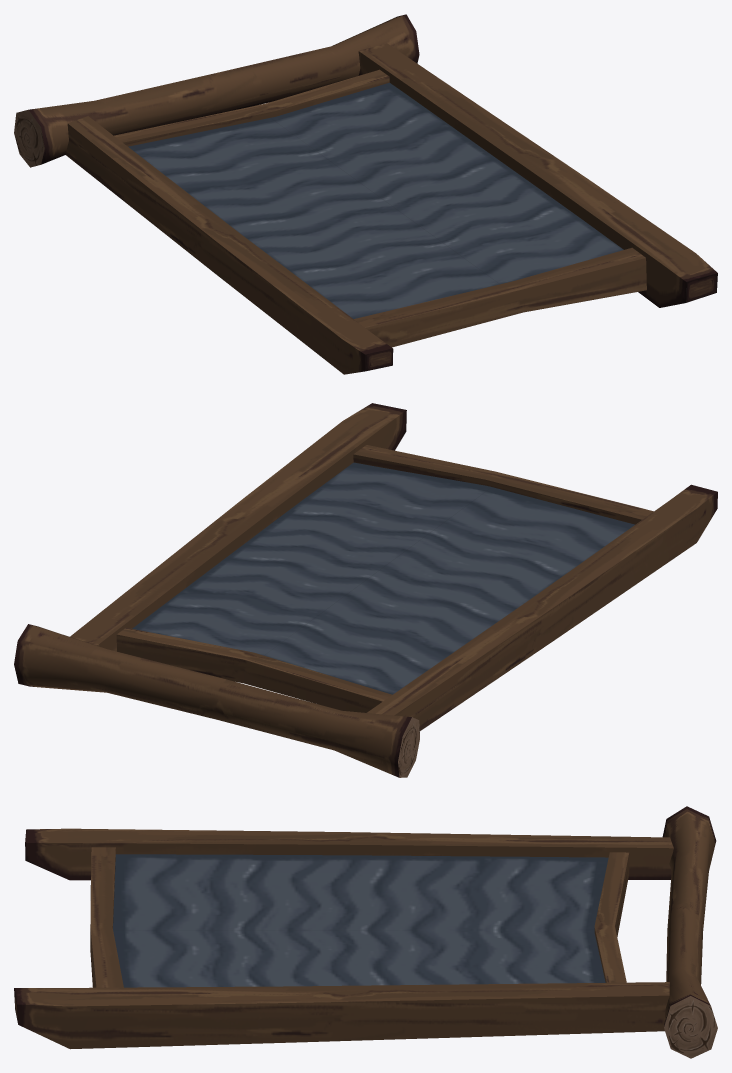
File: SM_PROP_washboard_battle.fbx
The picture shows the model from 3 angles, top to bottom: view 1: azimuth 30°, elevation 25°; view 2: azimuth 150°, elevation 25°; view 3: azimuth 270°, elevation 25°; orthographic projection. The views are drawn at different scales.
Parts seen in each view (by area): view 1: SM_PROP_washboard_battle; view 2: SM_PROP_washboard_battle; view 3: SM_PROP_washboard_battle.
Boxes of the visible parts, x1=… form: SM_PROP_washboard_battle: x1=14, y1=14, x2=717, y2=374; SM_PROP_washboard_battle: x1=14, y1=403, x2=717, y2=777; SM_PROP_washboard_battle: x1=14, y1=806, x2=717, y2=1058.
Size of the model in its own units: 39.66 by 6.1 by 61.13.
